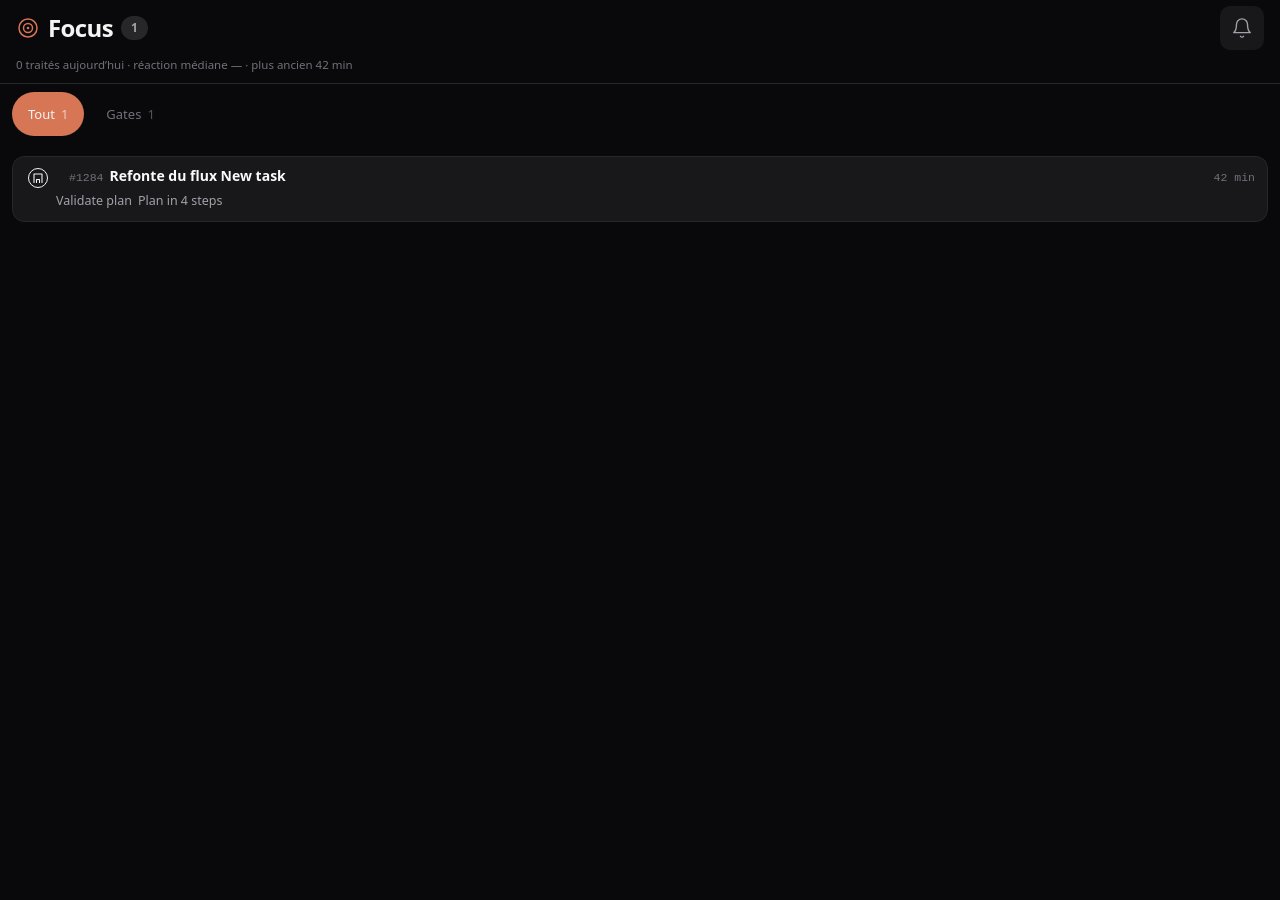
MobileFocus › opens the sheet on a tap, not the ticket
Click the text "Refonte du flux New task".
click(177, 176)  # box [69,166,286,185]
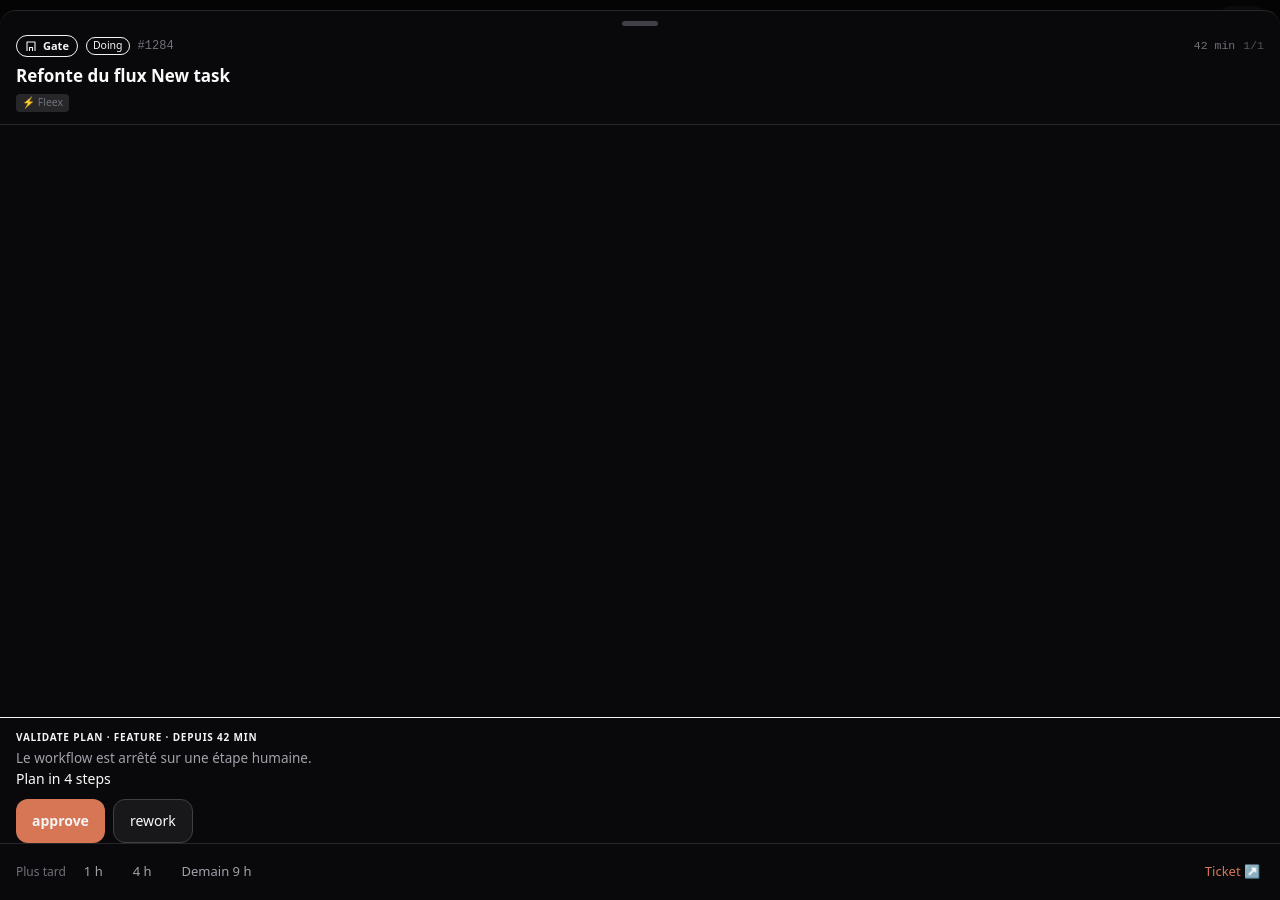
Expected: the dialog is shown
Expected: the button "approve" is shown, [16,799,105,843]
